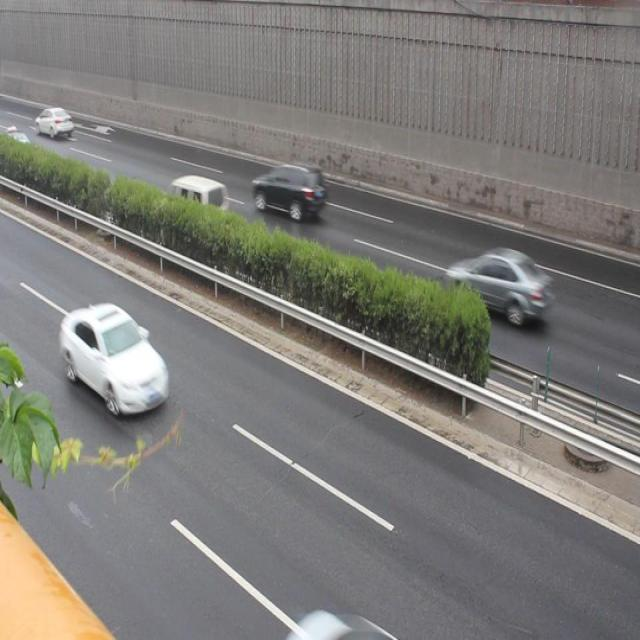car: (61, 302, 170, 416), (444, 248, 552, 327), (252, 161, 326, 224)
truck: (164, 174, 231, 241)
